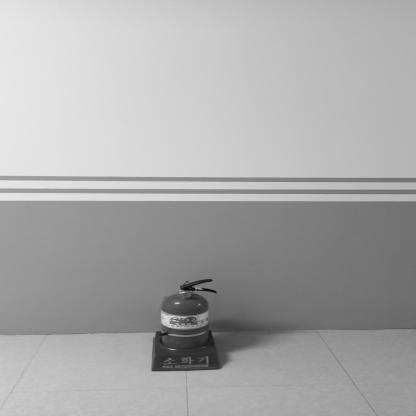FE: (152, 279, 218, 372)
